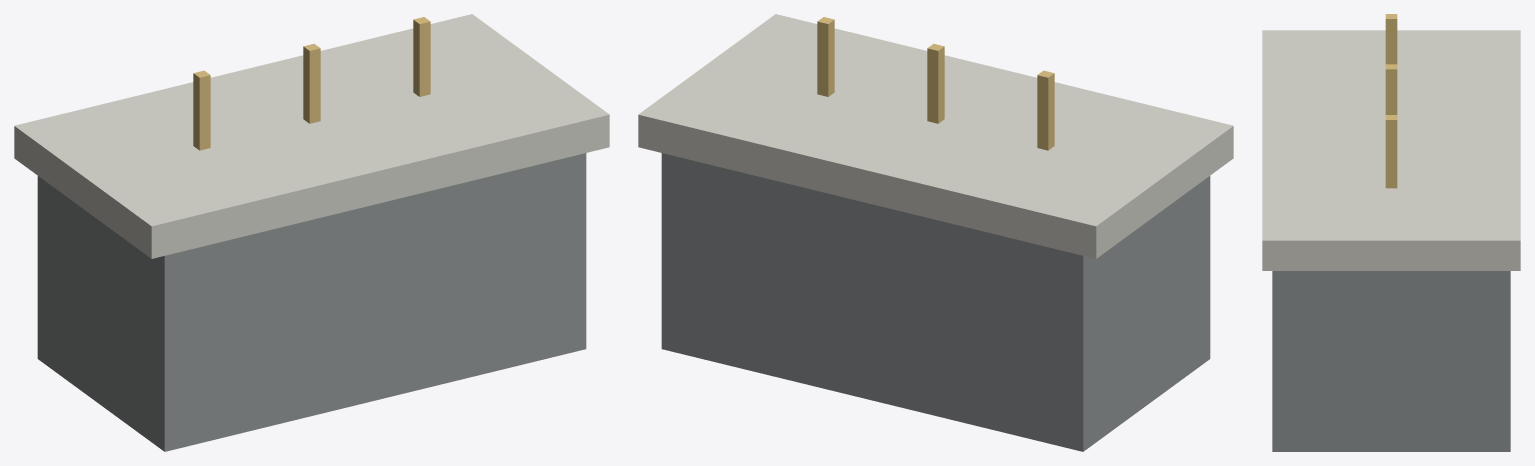
File: temple_altar.glb
3 renders of one model, left to right at view 1: azimuth 30°, elevation 25°; view 2: azimuth 150°, elevation 25°; view 3: azimuth 270°, elevation 25°, orthographic. The views are drawn at different scales.
Parts seen in each view (by area): view 1: stone_dark, stone_light, gold; view 2: stone_dark, stone_light, gold; view 3: stone_light, stone_dark, gold.
Boxes of the visible parts, bbox=[...] form: stone_dark: bbox=[37, 153, 586, 451]; stone_light: bbox=[14, 14, 609, 258]; gold: bbox=[193, 17, 430, 150]; stone_dark: bbox=[661, 153, 1210, 451]; stone_light: bbox=[638, 14, 1233, 258]; gold: bbox=[817, 17, 1054, 150]; stone_light: bbox=[1262, 30, 1520, 270]; stone_dark: bbox=[1272, 271, 1510, 451]; gold: bbox=[1385, 14, 1397, 188].
Bounding box in the file's own units: 2.5 × 1.6 × 1.3.
